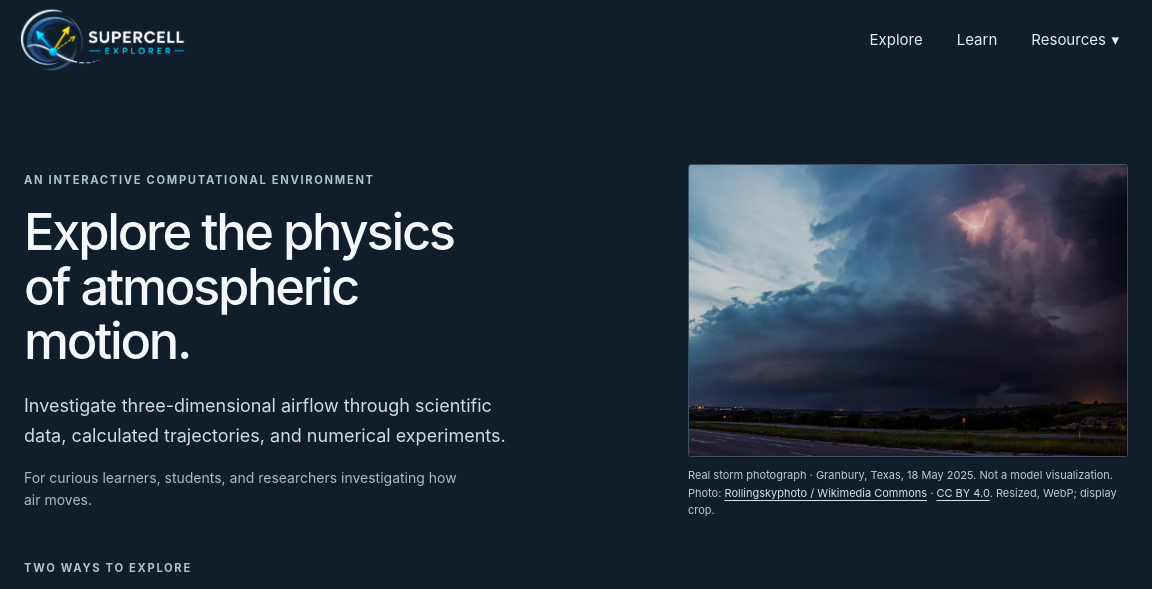
Test: Learn Slice 1 › switches Look Around / Follow Motion with one mounted viewport
Click the 1st button "Learn" at (977, 40), box [944, 18, 1010, 62]
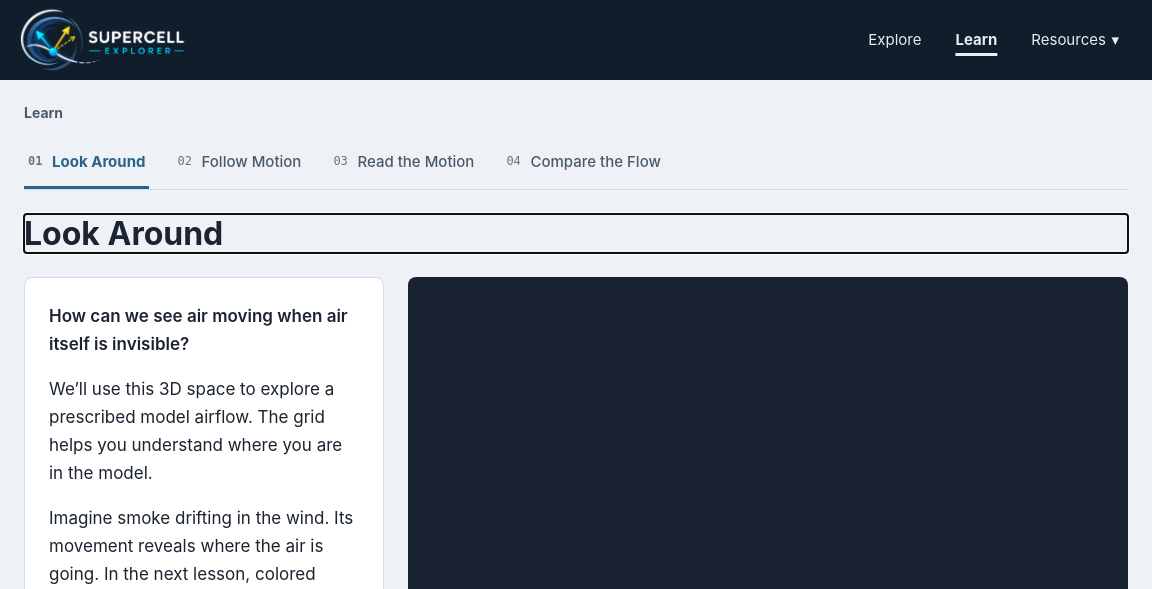
Result: the button "02 Follow Motion" is shown
Click the button "02 Follow Motion" at (239, 163), box [174, 137, 305, 189]
(page scrolled)
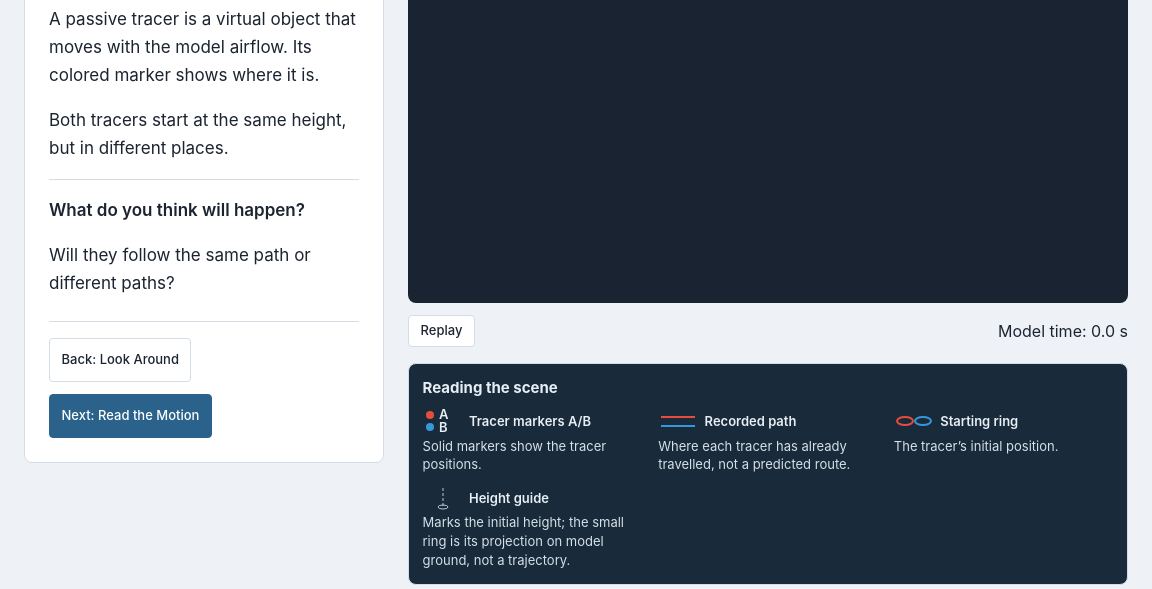
Result: the button "Back: Look Around" is shown
Click the button "Back: Look Around" at (120, 360), box [49, 338, 192, 382]
(page scrolled)
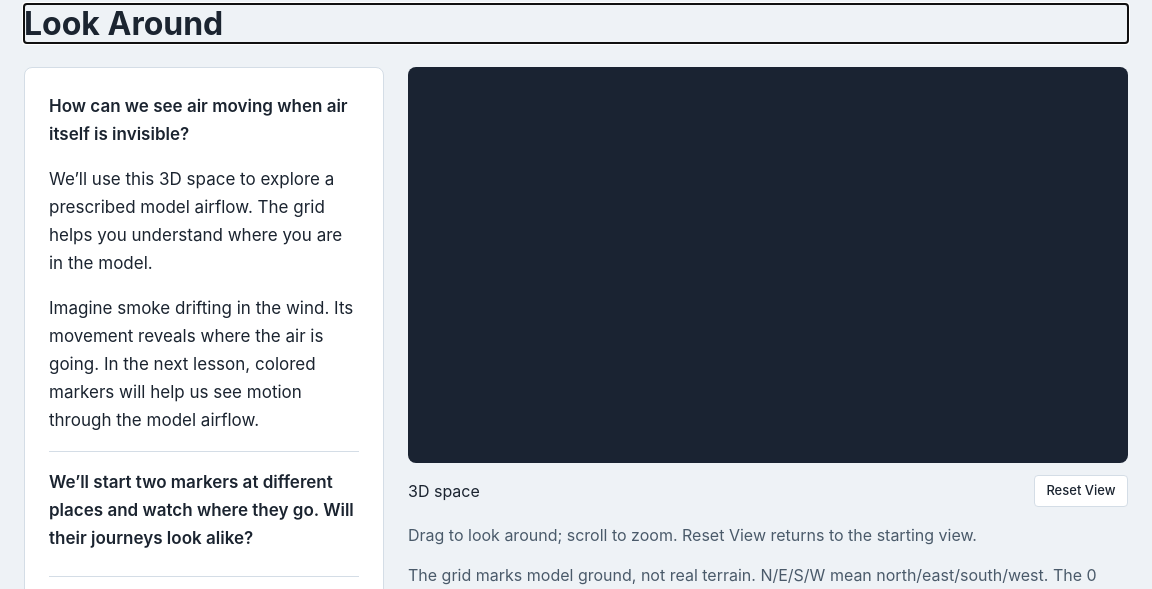
Result: the heading "Look Around" is shown at [24, 4, 223, 43]
